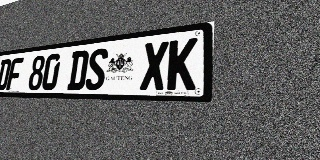0: (41, 53, 62, 90)
8: (27, 55, 47, 90)
D: (67, 50, 90, 90), (0, 59, 12, 90)
F: (6, 57, 24, 90)
K: (166, 37, 198, 90)
S: (84, 48, 109, 90)
X: (140, 41, 169, 90)
